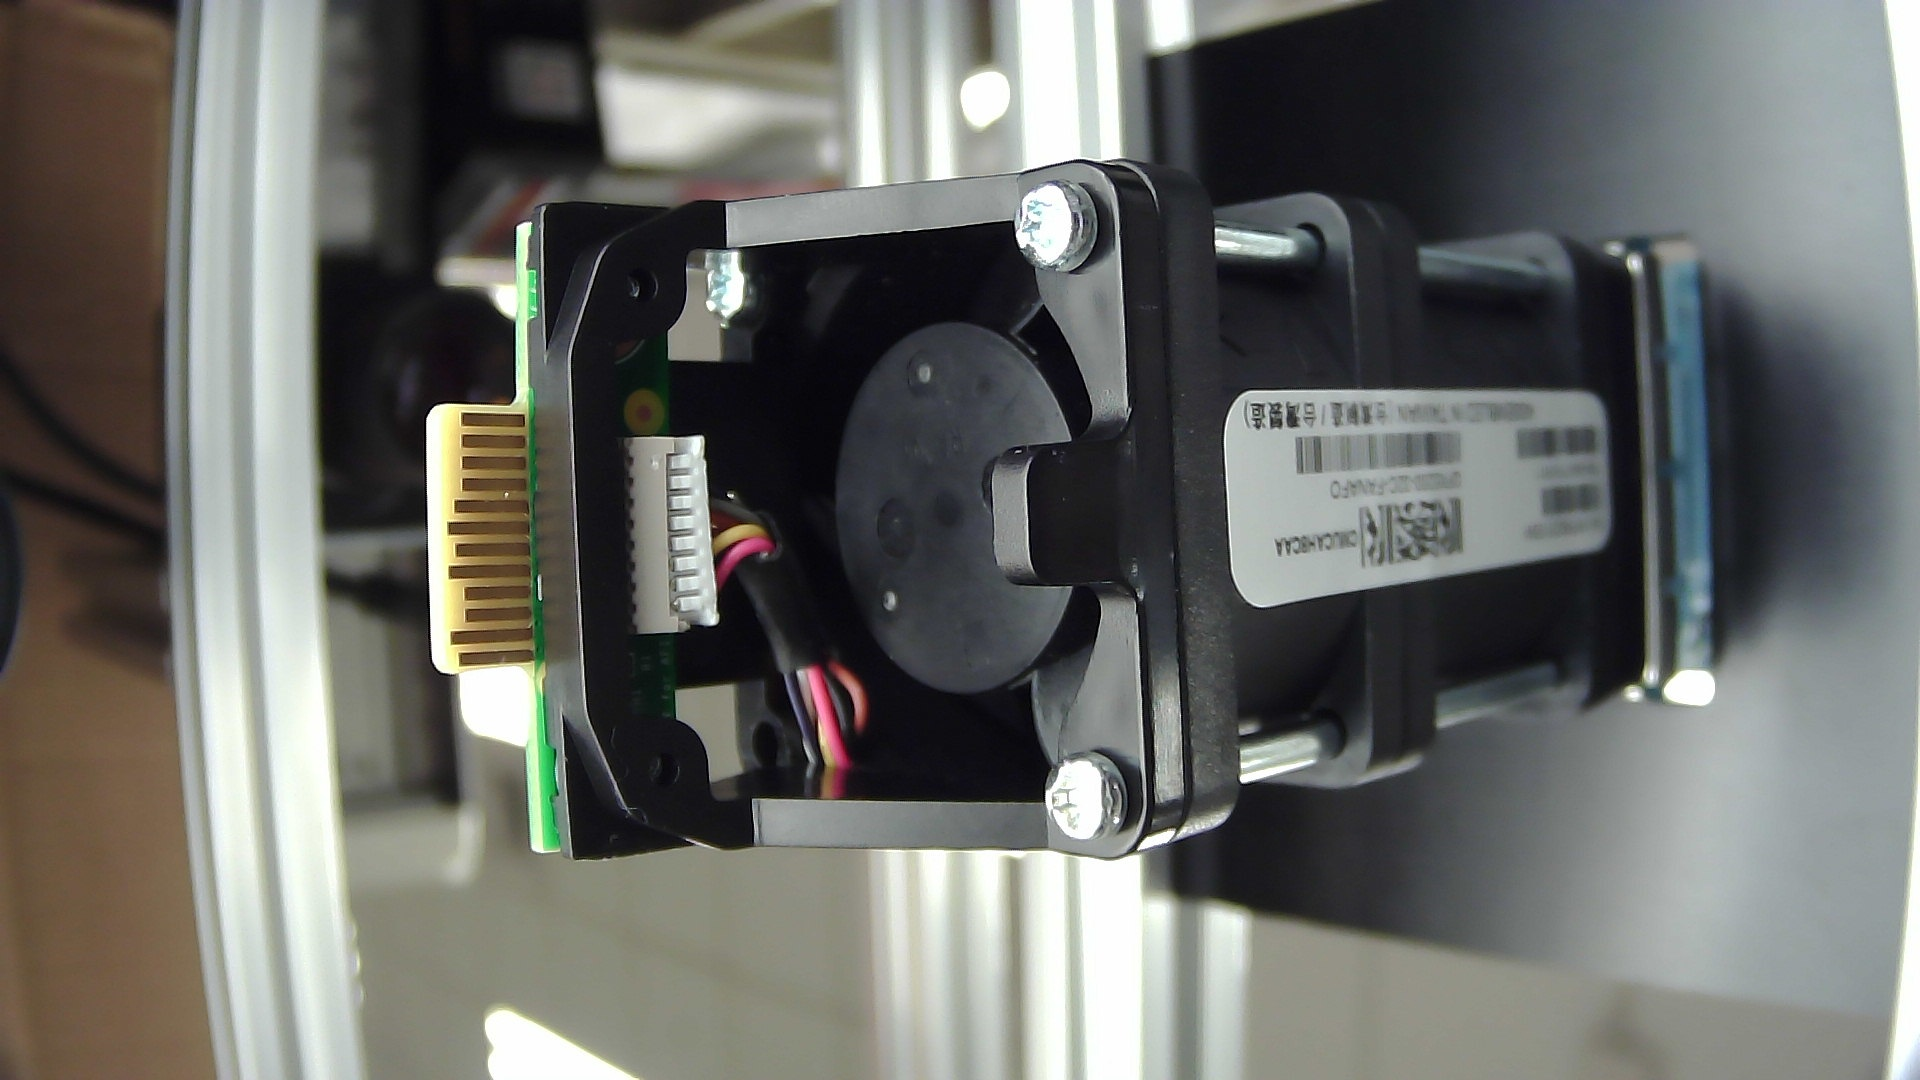8_2: (646, 429, 690, 640)
